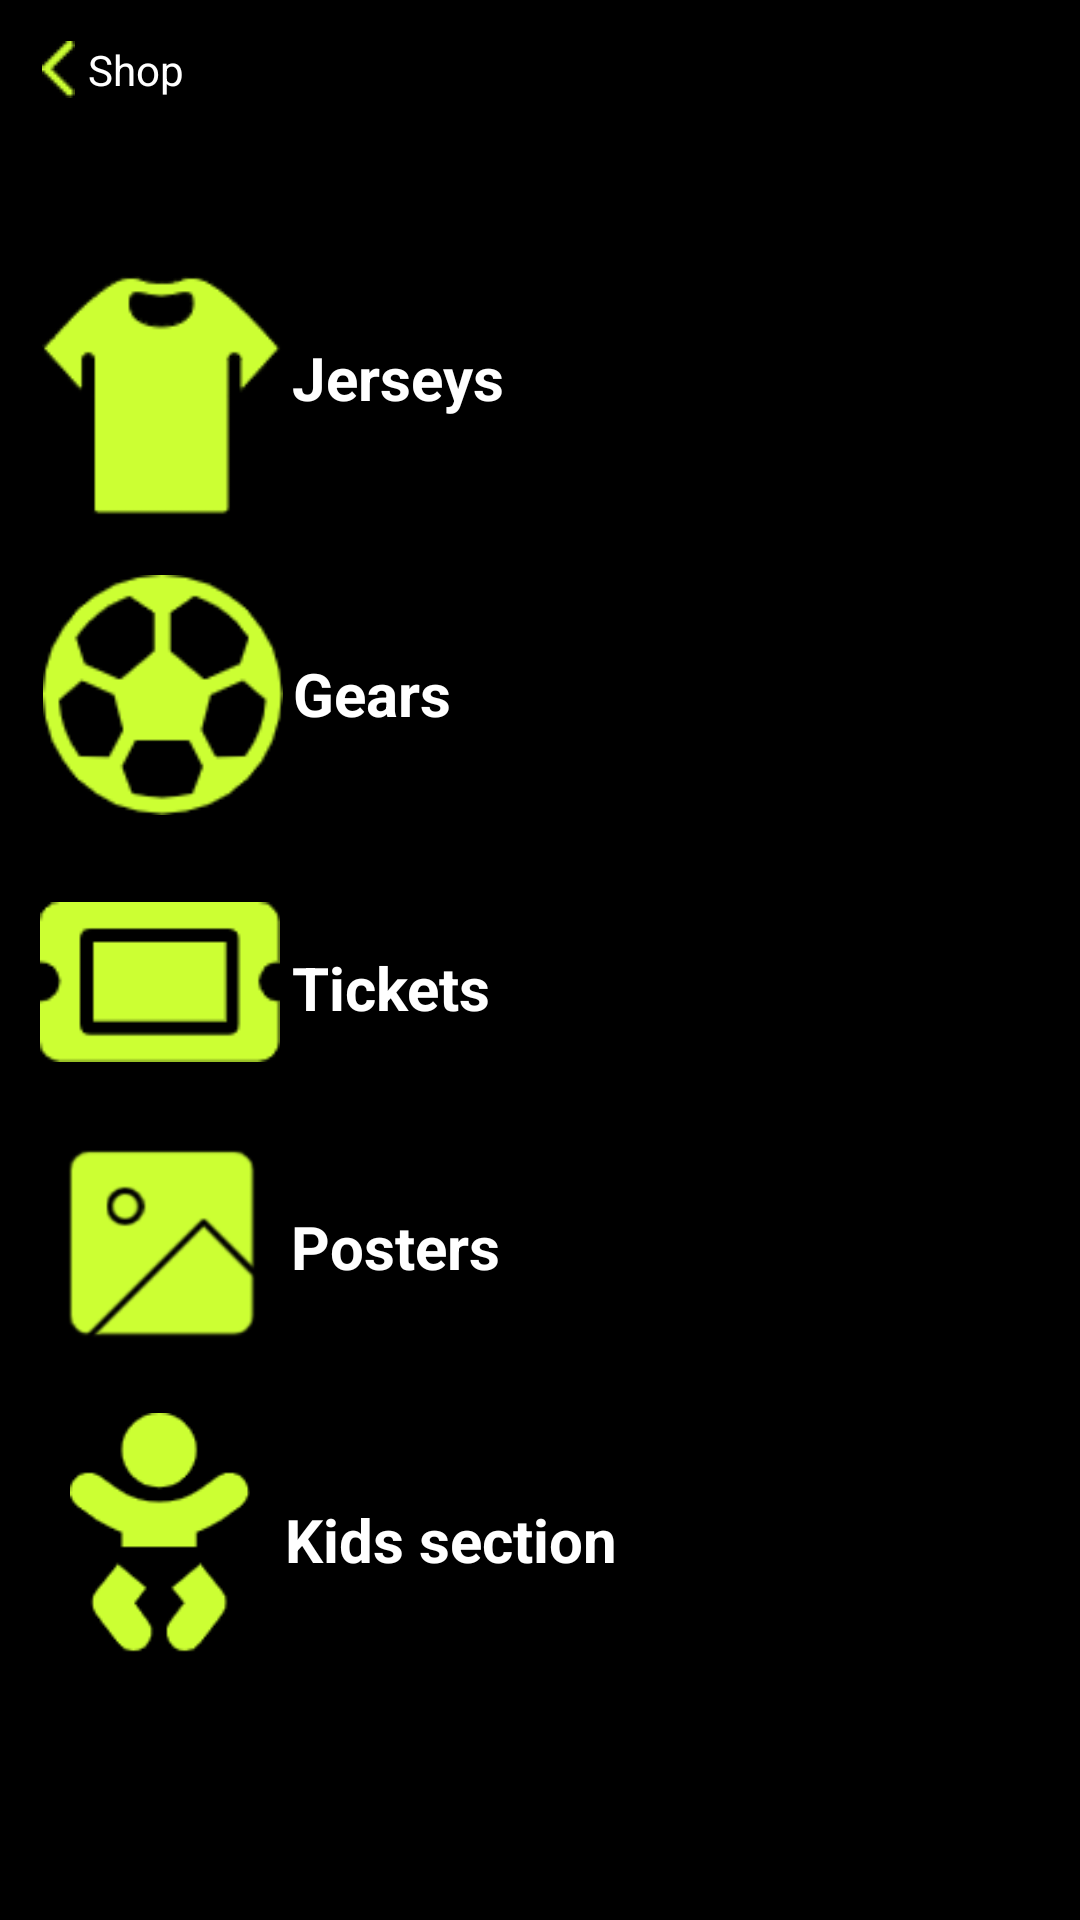

Named icons in this screenshot (1080 × 1920) and their centers, (x=x, y=y):
beba: (x=160, y=1532)
rikvercicon: (x=58, y=69)
